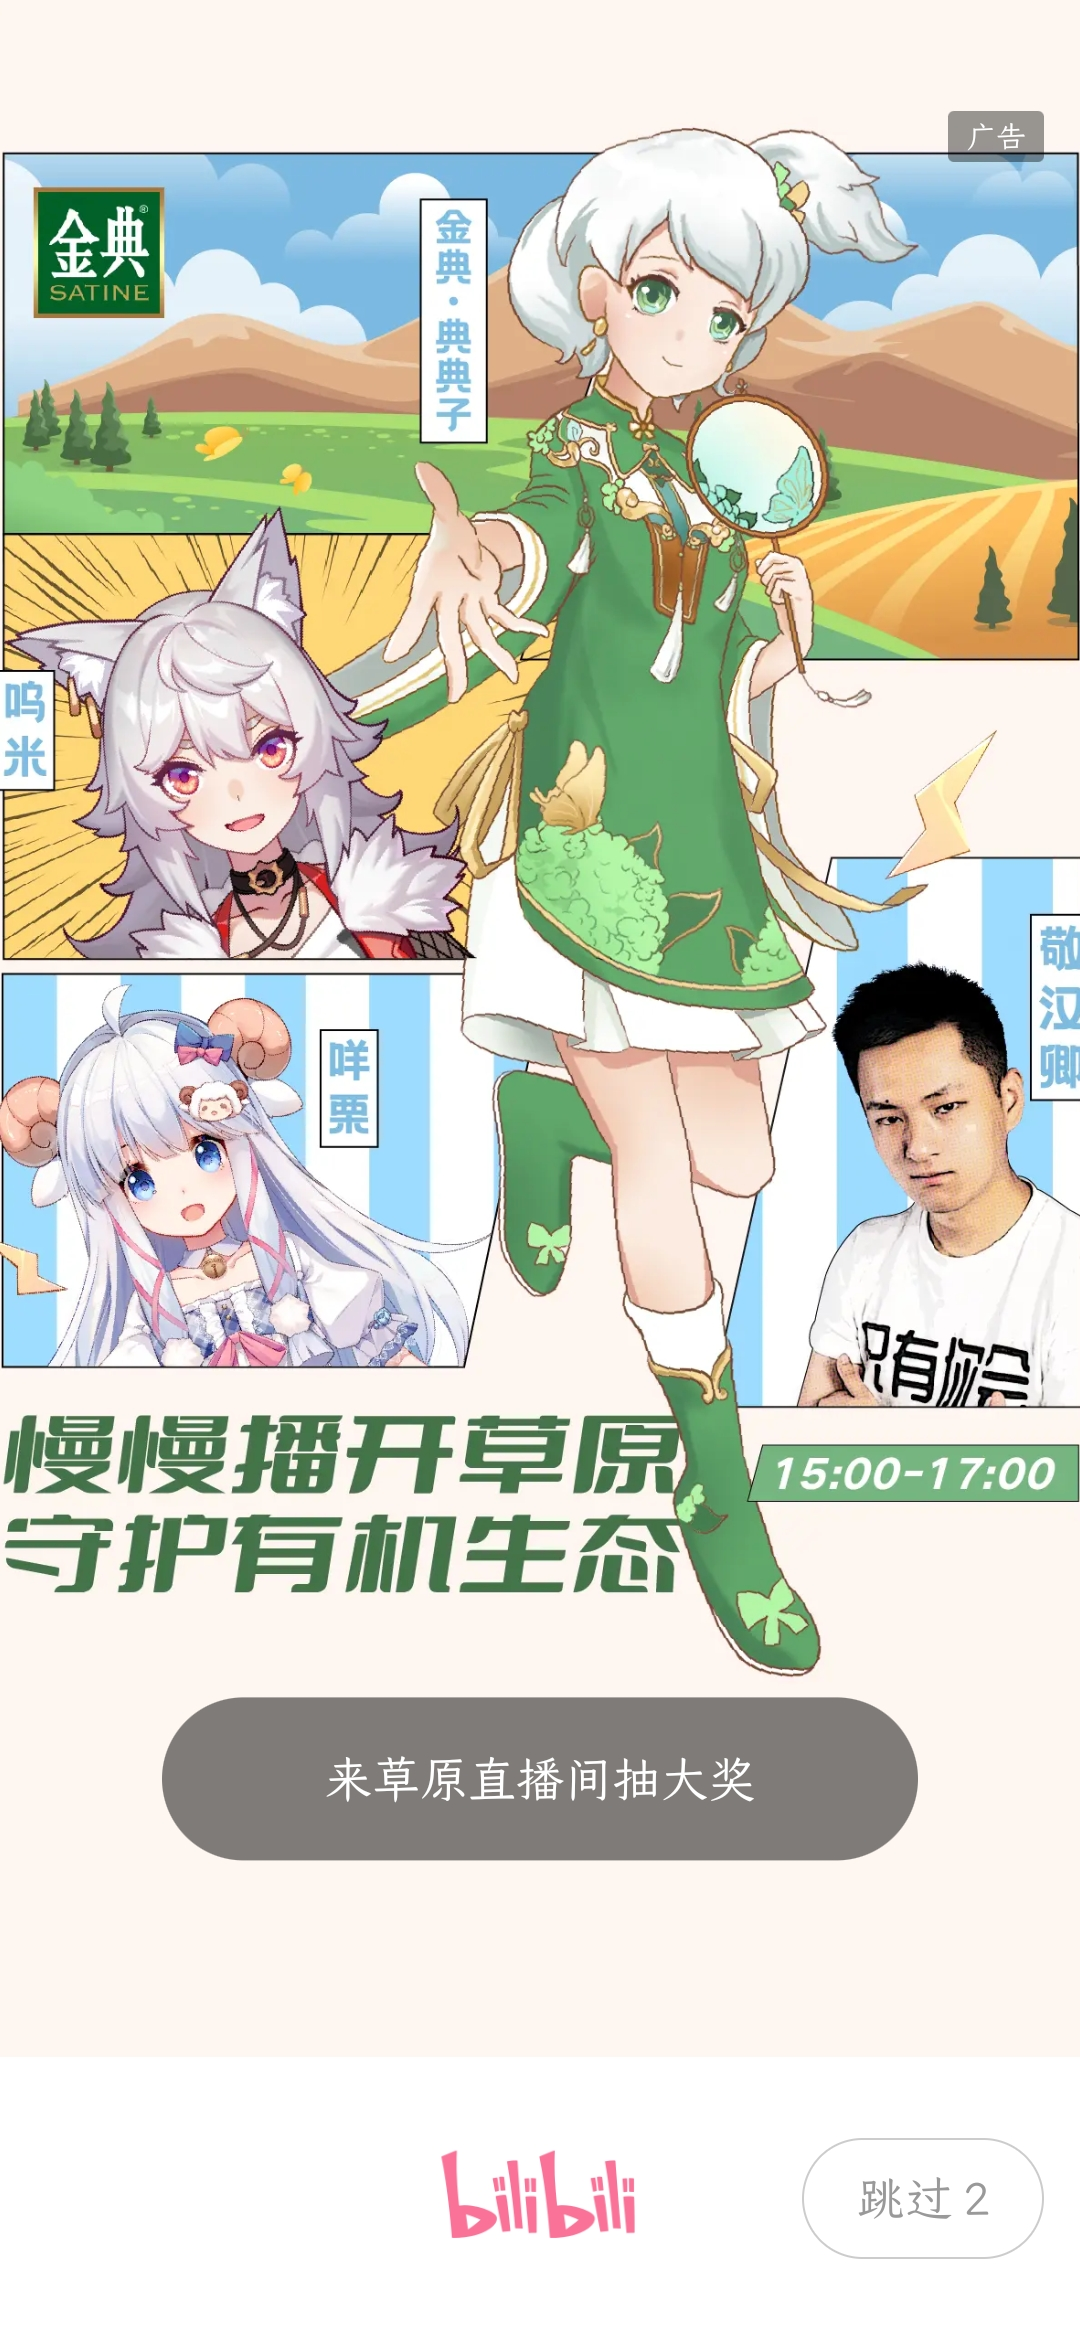skip: (817, 2147, 1016, 2244)
